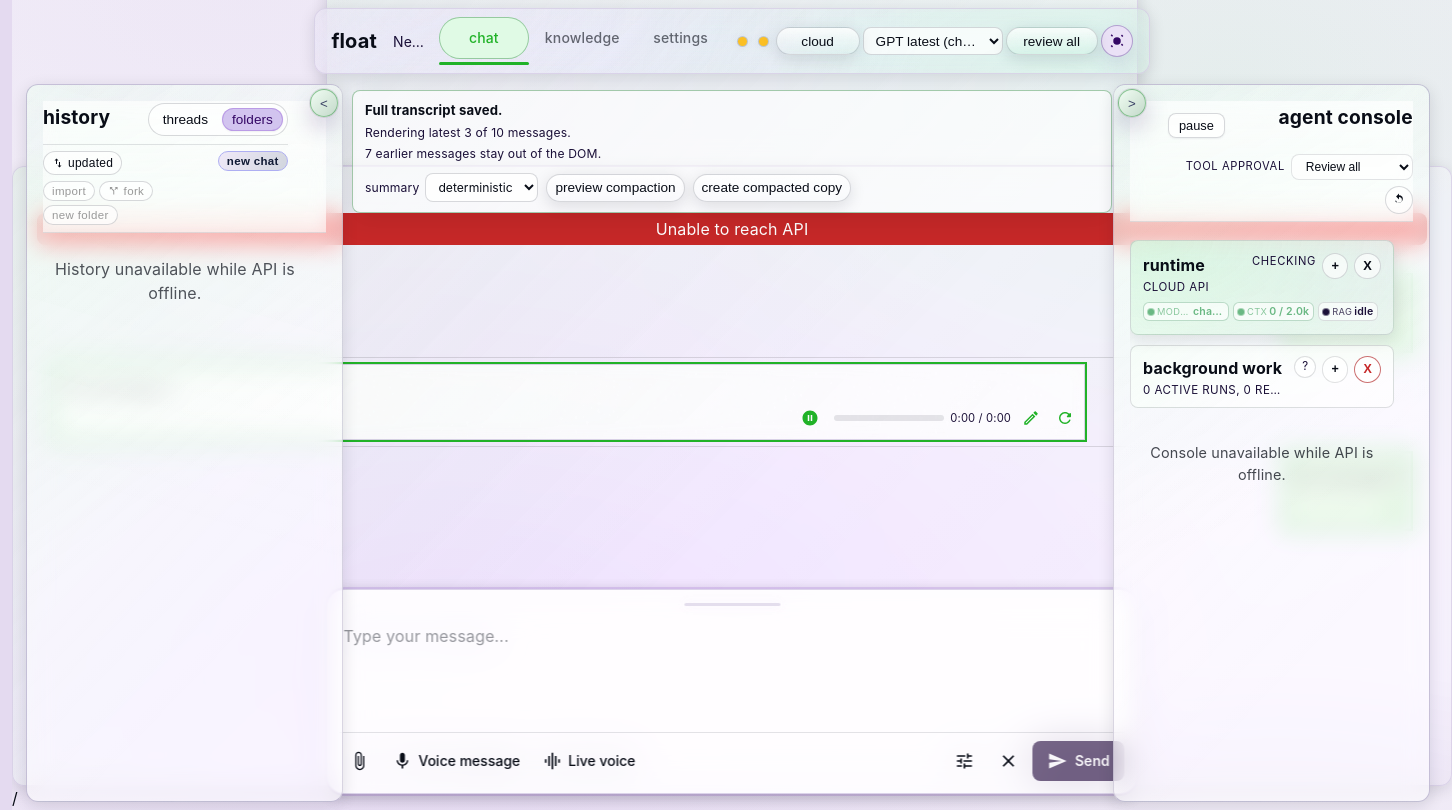
Chat › previews conversation compaction with deterministic mode by default
(page scrolled)
Click the button "preview compaction": (615, 188) [546, 174, 684, 202]
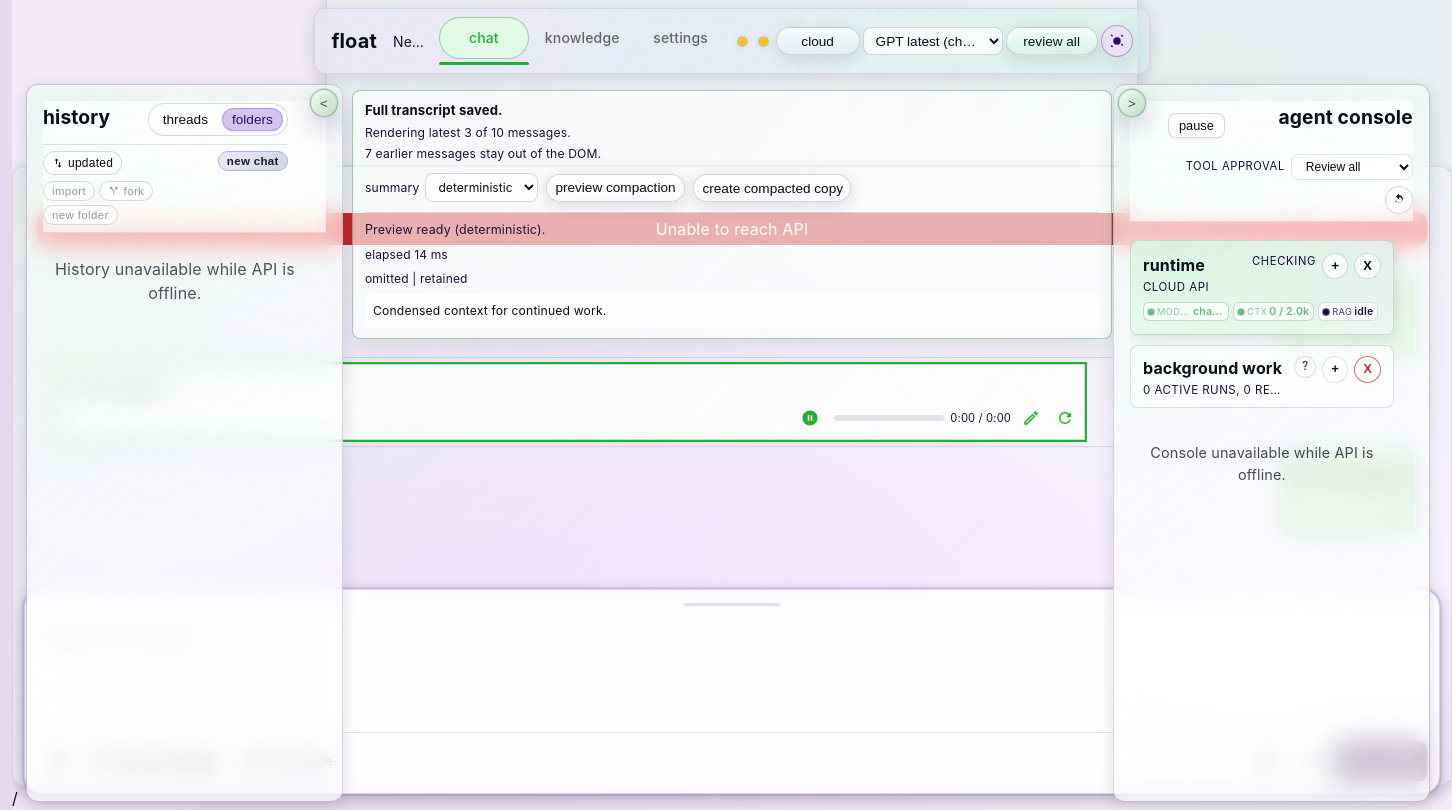
Expected: the text "Condensed context for continued work." is shown, [365, 294, 1099, 328]
Expected: the text "Preview ready (deterministic)." is shown, [365, 222, 545, 237]
